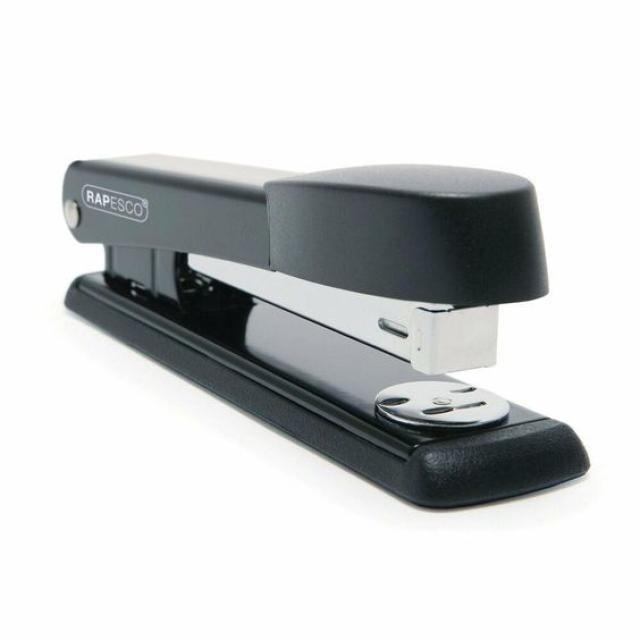Stapler: (37, 105, 613, 547)
